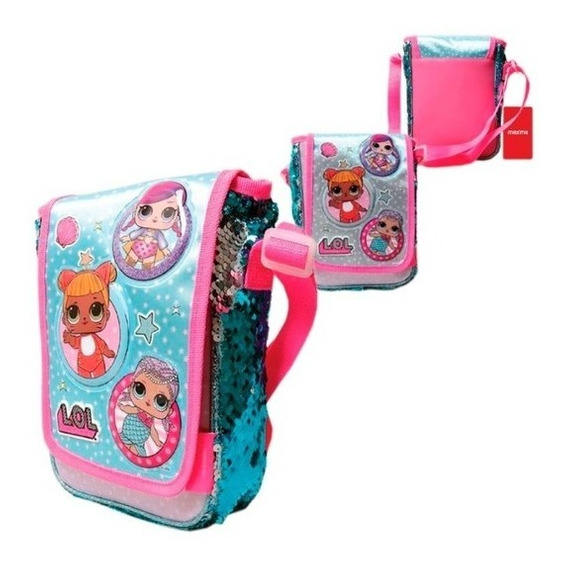cartera: (19, 168, 323, 529), (284, 123, 424, 290), (385, 31, 539, 165)
